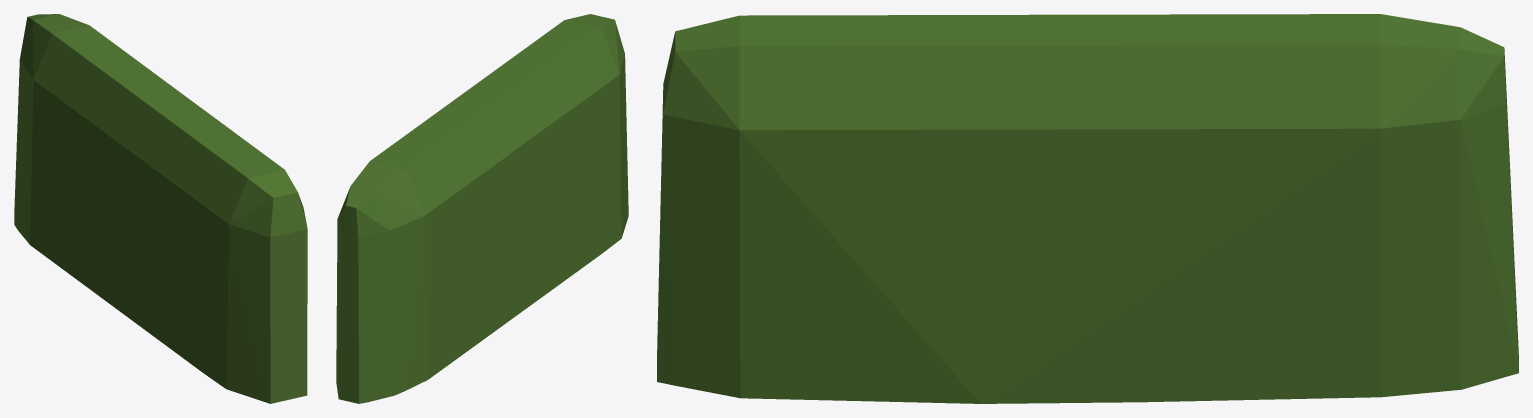
The model's file is converted_Downdraft_Assy_collision_36_50772eff.obj.
3 renders of one model, left to right at view 1: azimuth 30°, elevation 25°; view 2: azimuth 150°, elevation 25°; view 3: azimuth 270°, elevation 25°, orthographic. The views are drawn at different scales.
Size of the model in its own units: 0.0298 by 0.0708 by 0.1621.
